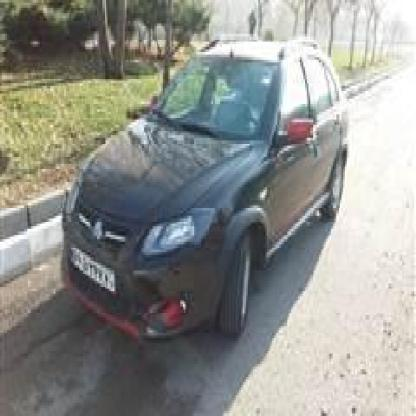Car: (49, 32, 354, 374)
